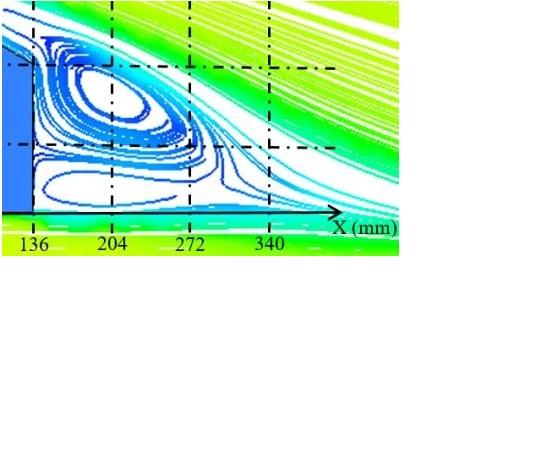vortox: (47, 34, 204, 160)
